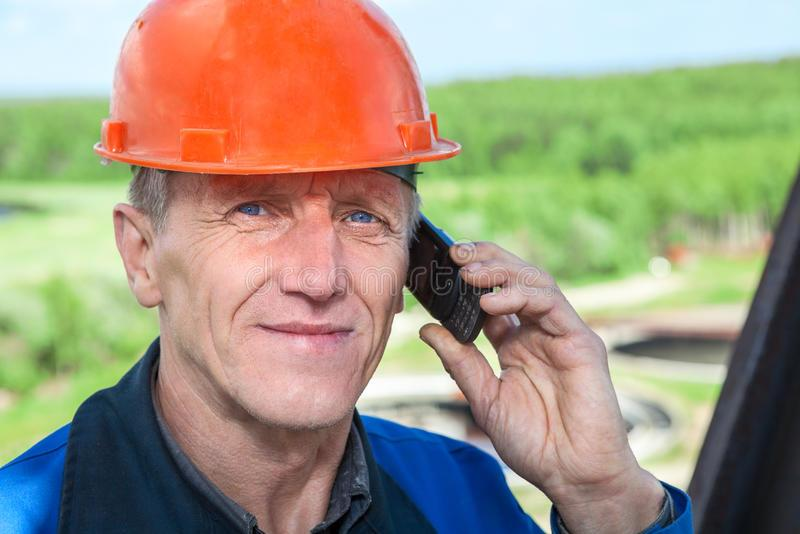helmet: (89, 3, 474, 174)
